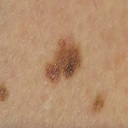Melanoma: (45, 38, 79, 81), (92, 93, 112, 115)
